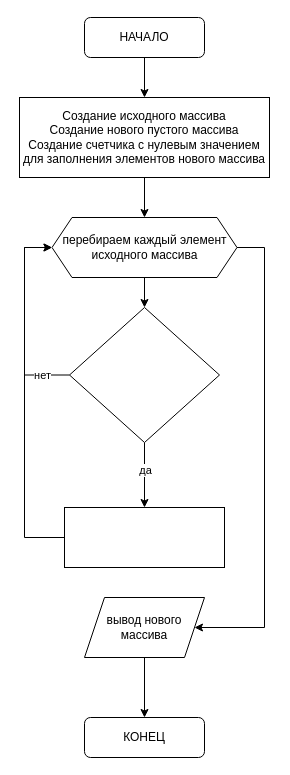
Image size: 290x775. Some labels were removed from this diagram. The centre of each missing label's shape, as x and y in pixels:
"длинна элемента <= 3" belongs at (x=144, y=374).
"добавить элемент в новый массив счетчик увеличиваем на 1" belongs at (x=144, y=537).
